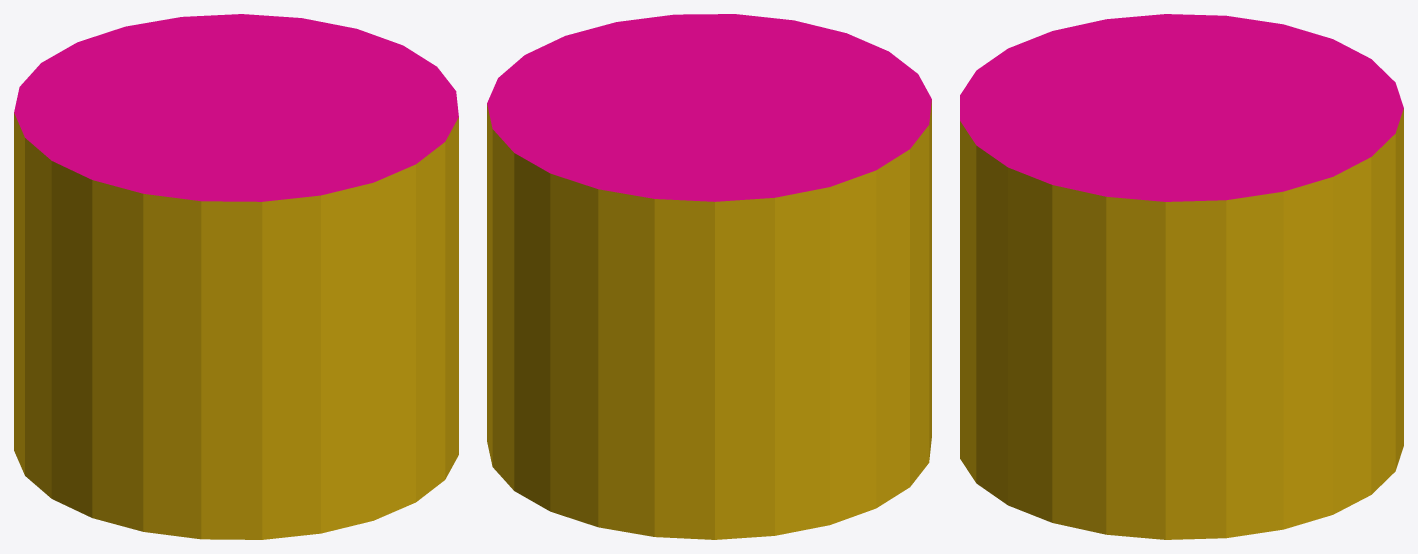
Rendered from obst2.fbx.
3 renders of one model, left to right at view 1: azimuth 30°, elevation 25°; view 2: azimuth 150°, elevation 25°; view 3: azimuth 270°, elevation 25°, orthographic.
Visible parts, largest first — view 1: Cylinder.002, Cylinder.002_cell.001, Cylinder.002_cell, Cylinder.002_cell.002; view 2: Cylinder.002, Cylinder.002_cell.002, Cylinder.002_cell.001, Cylinder.002_cell; view 3: Cylinder.002, Cylinder.002_cell, Cylinder.002_cell.001, Cylinder.002_cell.002.
Boxes of the visible parts, bbox=[...] form: Cylinder.002: bbox=[14, 81, 458, 539]; Cylinder.002_cell.001: bbox=[14, 14, 447, 361]; Cylinder.002_cell: bbox=[143, 118, 458, 539]; Cylinder.002_cell.002: bbox=[14, 282, 99, 518]; Cylinder.002: bbox=[487, 14, 931, 535]; Cylinder.002_cell.002: bbox=[489, 285, 922, 539]; Cylinder.002_cell.001: bbox=[487, 32, 931, 369]; Cylinder.002_cell: bbox=[487, 244, 489, 452]; Cylinder.002: bbox=[960, 97, 1403, 539]; Cylinder.002_cell: bbox=[960, 121, 1308, 539]; Cylinder.002_cell.001: bbox=[960, 14, 1403, 349]; Cylinder.002_cell.002: bbox=[1308, 277, 1403, 521].
Size of the model in its own units: 349 by 293 by 348.
